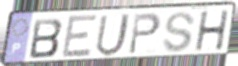B: (28, 17, 64, 60)
E: (60, 14, 99, 61)
H: (194, 9, 231, 54)
P: (127, 12, 163, 56)
S: (161, 11, 196, 54)
U: (94, 12, 132, 58)
